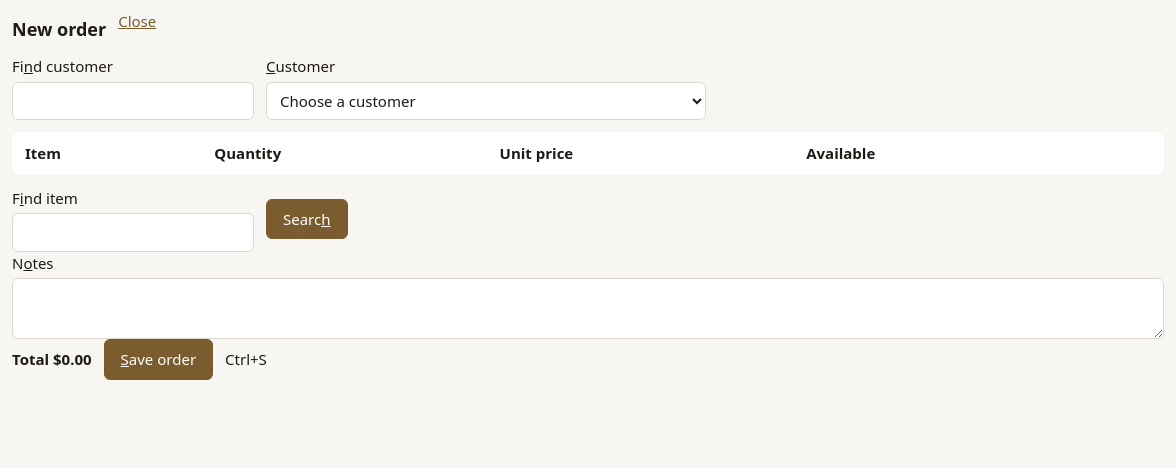
Test: OrderEditor › refuses to save an order with no customer
The image size is (1176, 468).
Check: the dropdown labelled "Customer" is shown, box [266, 82, 706, 120]
Click the button "Save order" at (158, 359), box [104, 339, 213, 380]
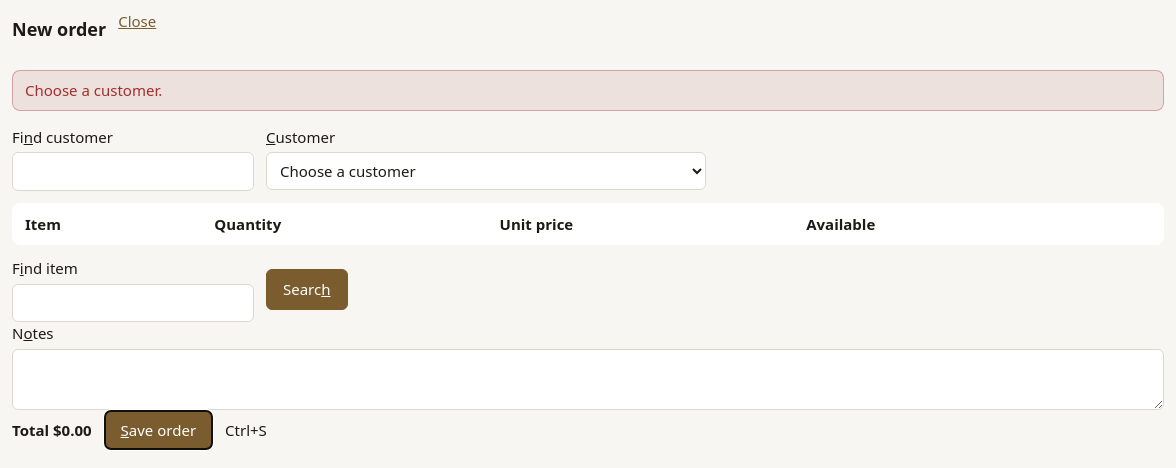
Check: the text "Choose a customer." is shown, box [12, 70, 1164, 110]
